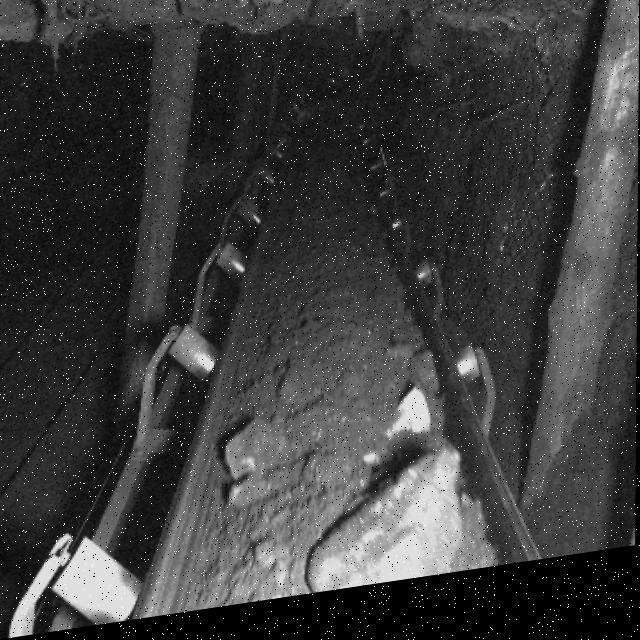large_sized_coal: (306, 464, 464, 604), (219, 423, 301, 516)
